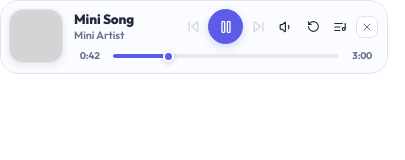
Test: MiniPlayerApp › restores the reported volume when a volume command fails
This screenshot has width=405, height=160.
expect the text "Mini Song" is shown: met, box [74,11,134,28]
Click the button with class "mini-player-volume-toggle" at (286, 26), box [275,16,297,38]
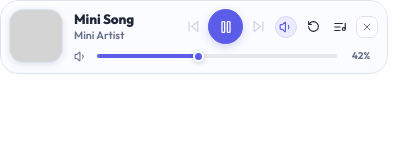
expect the slider named "音量" holds "0.42": met
Set the slider named "音量" to "0.25" at (161, 56), box [97,47,337,65]
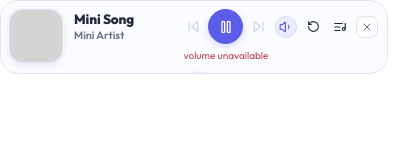
expect the text "volume unavailable" is shown: met, box [74,48,378,64]
